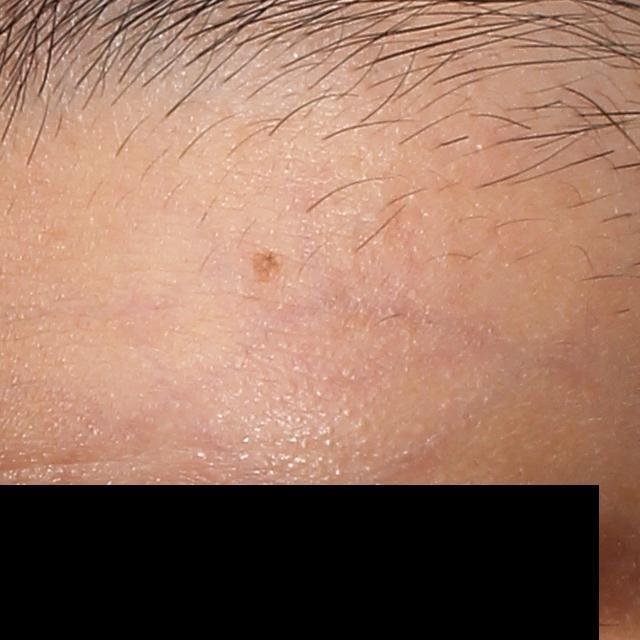nevus: (252, 248, 288, 284)
